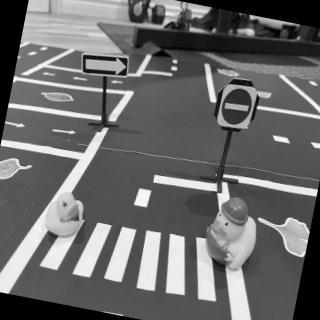duck_regular: (44, 189, 89, 242)
duck_specialty: (201, 193, 265, 274)
road_crosswalk: (36, 205, 234, 307)
road_oneway: (51, 125, 80, 139), (4, 119, 28, 134), (72, 74, 92, 85), (42, 70, 58, 82), (109, 78, 126, 87)
sign_noentry: (217, 81, 259, 130)
sign_oneway_right: (80, 47, 133, 84)
